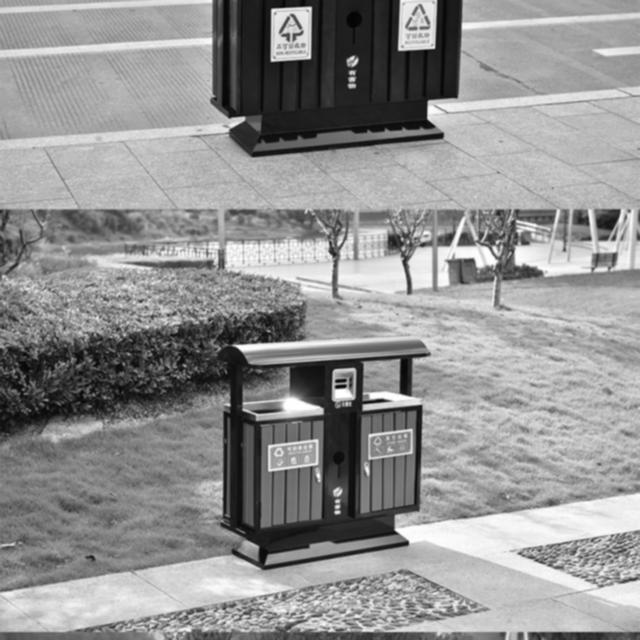ash bin: (210, 332, 432, 569), (201, 0, 467, 154)
